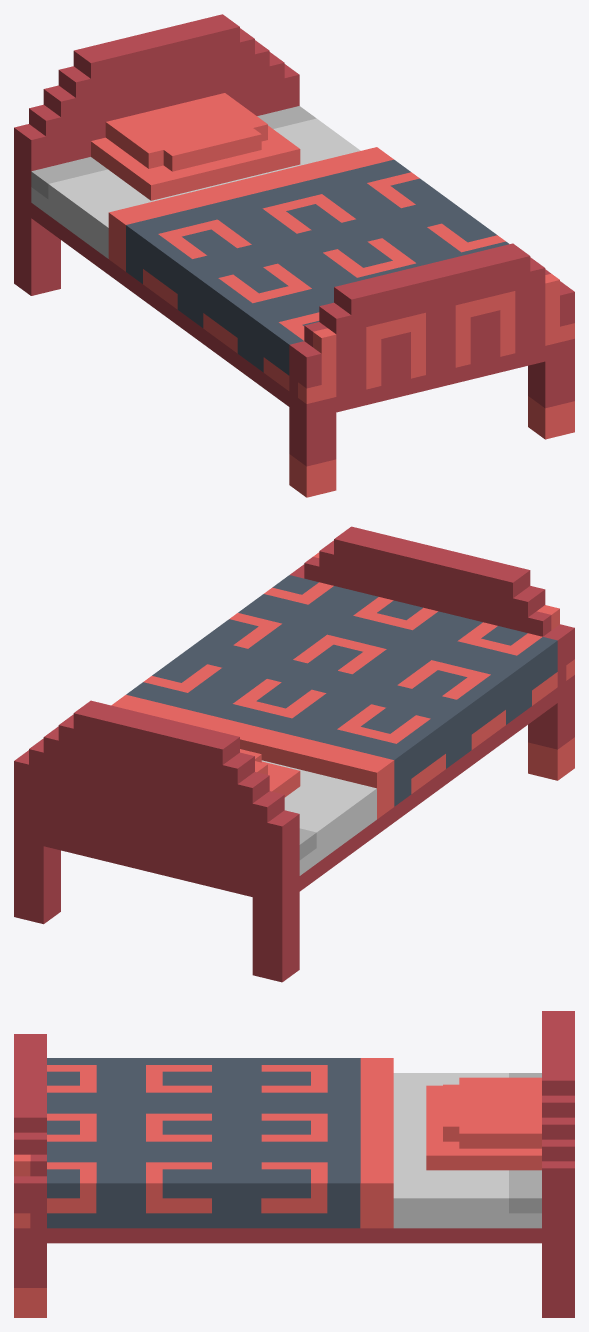
File: bed.obj
3 renders of one model, top to bottom at view 1: azimuth 30°, elevation 25°; view 2: azimuth 150°, elevation 25°; view 3: azimuth 270°, elevation 25°, orthographic. The views are drawn at different scales.
Parts seen in each view (by area): view 1: bed; view 2: bed; view 3: bed.
Boxes of the visible parts, x1=… form: bed: x1=14, y1=14, x2=574, y2=497; bed: x1=14, y1=526, x2=574, y2=982; bed: x1=14, y1=1011, x2=574, y2=1317.
Bounding box in the file's own units: 18 × 14 × 34.
1 material, 1 textured.
